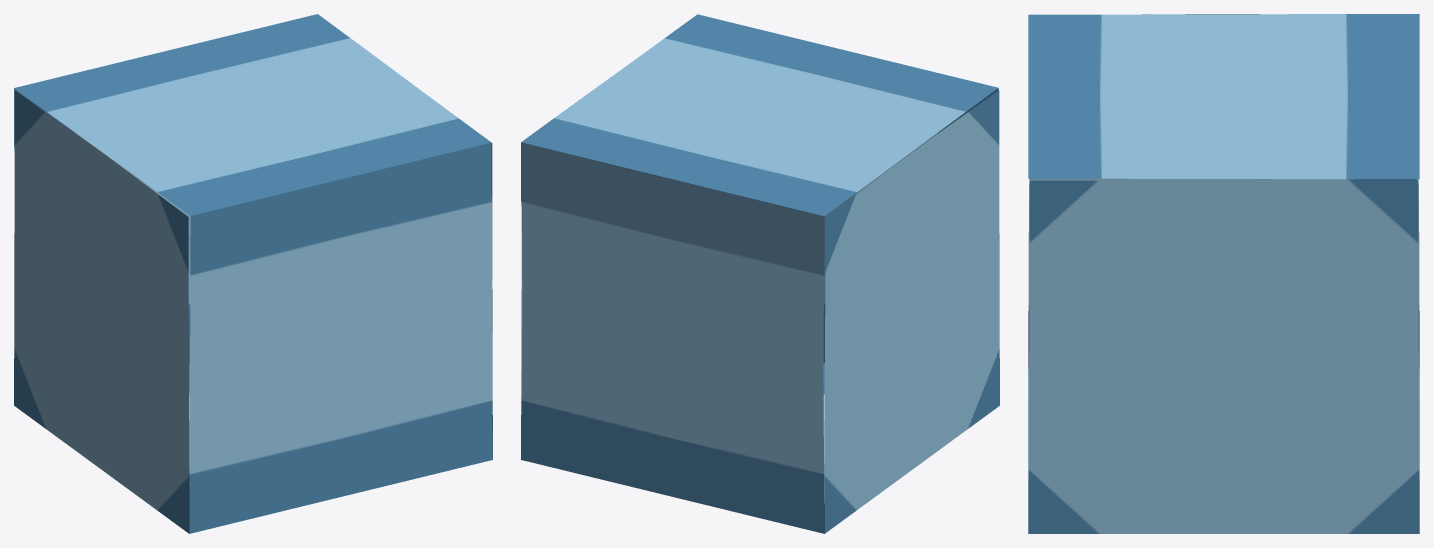
Rendered from enemy_laser.obj.
The picture shows the model from 3 angles, left to right: view 1: azimuth 30°, elevation 25°; view 2: azimuth 150°, elevation 25°; view 3: azimuth 270°, elevation 25°; orthographic projection. The views are drawn at different scales.
Visible parts, largest first — view 1: Cube; view 2: Cube; view 3: Cube.
Boxes of the visible parts, left/top/right/bottom form: Cube: left=14, top=14, right=492, bottom=533; Cube: left=521, top=14, right=999, bottom=533; Cube: left=1028, top=14, right=1419, bottom=533.
Bounding box in the file's own units: 2 × 2 × 2.
